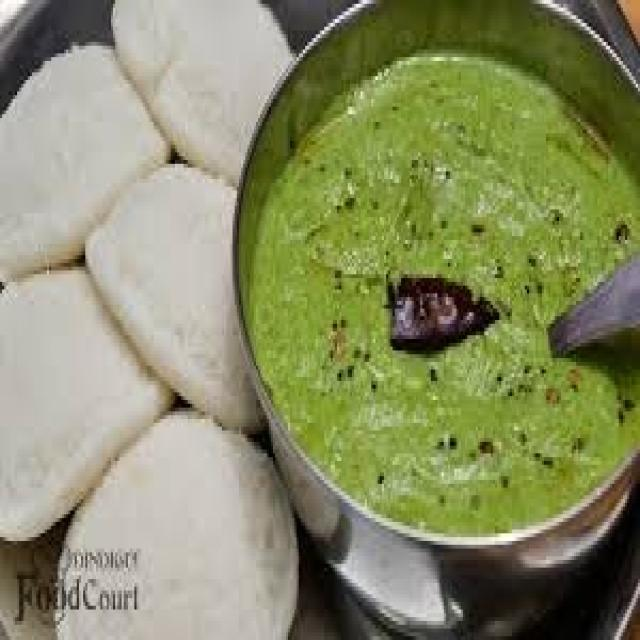idly: (58, 411, 297, 636), (85, 164, 260, 430), (0, 267, 171, 537), (0, 46, 169, 282), (111, 0, 290, 183)
puthina chutney: (239, 0, 640, 636)
